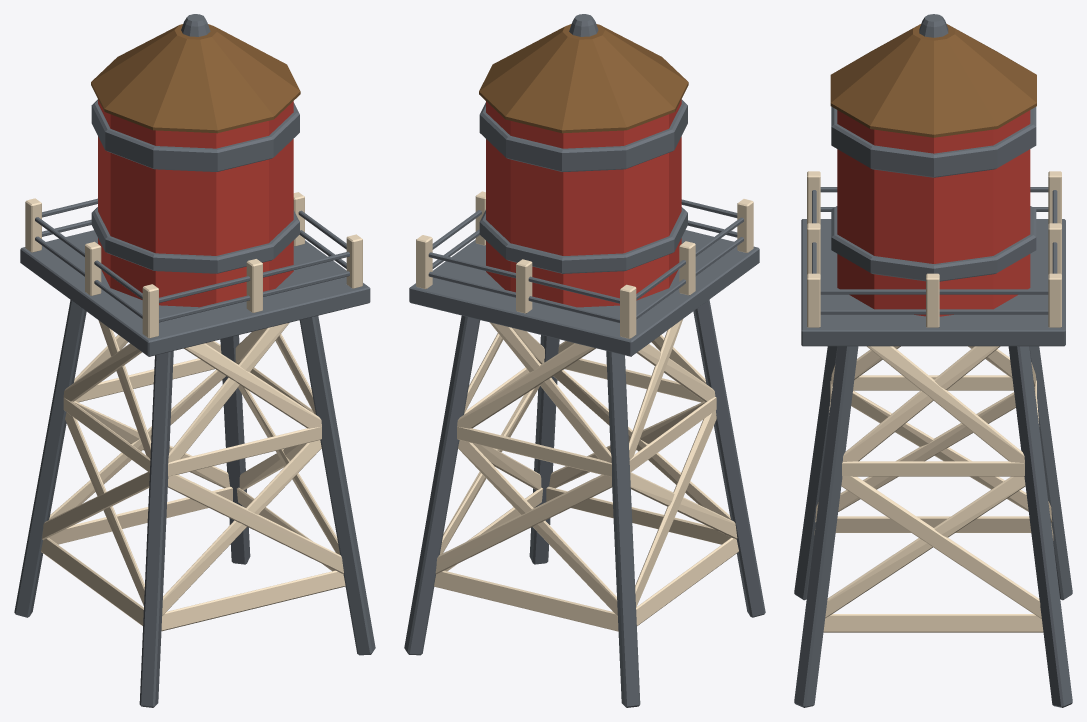
Rendered from farmstructure_a.gltf.
3 views of the same model, side by side, from view 1: azimuth 30°, elevation 25°; view 2: azimuth 150°, elevation 25°; view 3: azimuth 270°, elevation 25° (orthographic). The views are drawn at different scales.
Visible parts, largest first — view 1: farmstructure_a001, Box1173, Cylinder127, Cylinder128; view 2: farmstructure_a001, Box1173, Cylinder127, Cylinder128; view 3: farmstructure_a001, Box1173, Cylinder127, Cylinder128.
Part boxes in pixels (x1=…): farmstructure_a001: x1=14, y1=14, x2=375, y2=707; Box1173: x1=25, y1=192, x2=362, y2=631; Cylinder127: x1=98, y1=99, x2=293, y2=307; Cylinder128: x1=91, y1=24, x2=300, y2=133; farmstructure_a001: x1=404, y1=14, x2=765, y2=707; Box1173: x1=416, y1=191, x2=753, y2=631; Cylinder127: x1=486, y1=99, x2=681, y2=307; Cylinder128: x1=479, y1=24, x2=688, y2=133; farmstructure_a001: x1=794, y1=14, x2=1072, y2=707; Box1173: x1=807, y1=171, x2=1061, y2=632; Cylinder127: x1=837, y1=110, x2=1030, y2=316; Cylinder128: x1=830, y1=24, x2=1036, y2=137.
Size of the model in its own units: 4.21 by 10.57 by 4.21.
1 material, 1 textured.
